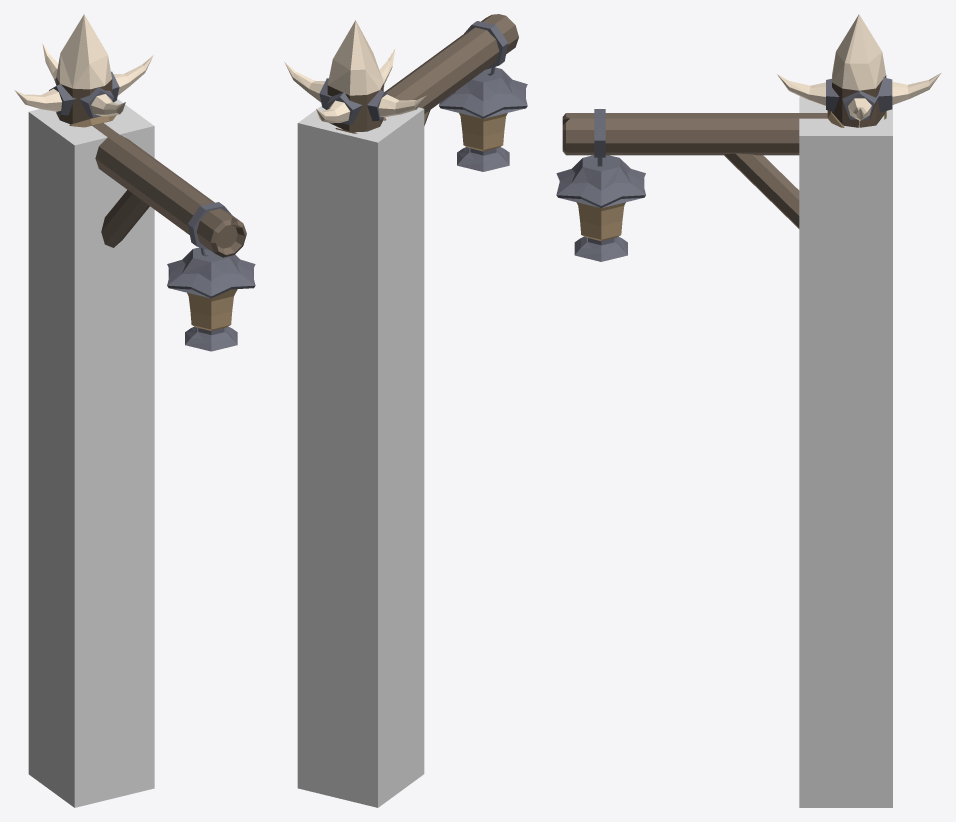
Rendered from lantern_post_orc.glb.
The picture shows the model from 3 angles, left to right: view 1: azimuth 30°, elevation 25°; view 2: azimuth 150°, elevation 25°; view 3: azimuth 270°, elevation 25°; orthographic projection.
Parts seen in each view (by area): view 1: Cube, lamp_1; view 2: Cube, lamp_1; view 3: Cube, lamp_1.
Part boxes in pixels (bbox=[...]): Cube: bbox=[28, 99, 154, 807]; lamp_1: bbox=[14, 14, 255, 351]; Cube: bbox=[297, 105, 424, 807]; lamp_1: bbox=[284, 14, 527, 171]; Cube: bbox=[799, 96, 892, 807]; lamp_1: bbox=[556, 14, 940, 261].
Size of the model in its own units: 0.7566 by 3.91 by 1.77.
1 material, 1 textured.
